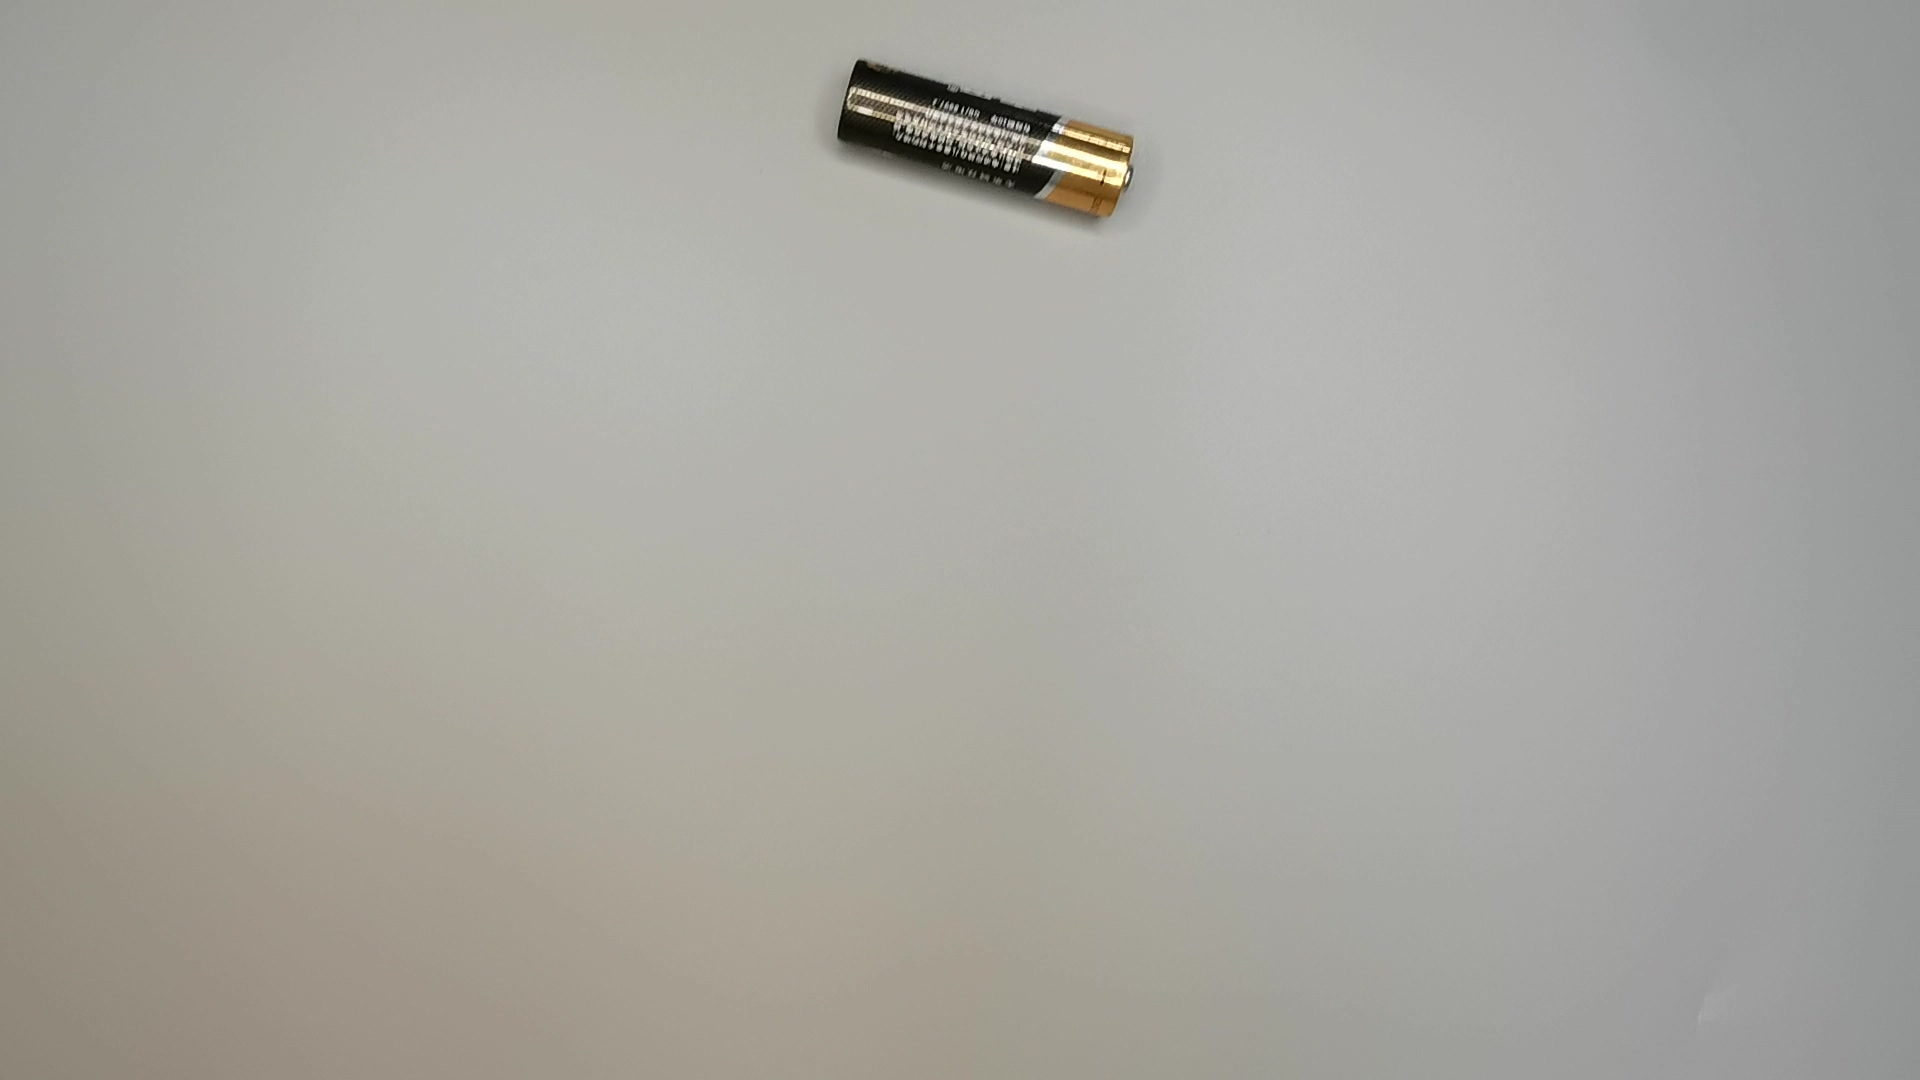battery: (829, 53, 1149, 232)
